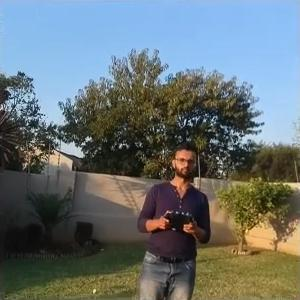follow: (134, 134, 219, 298)
